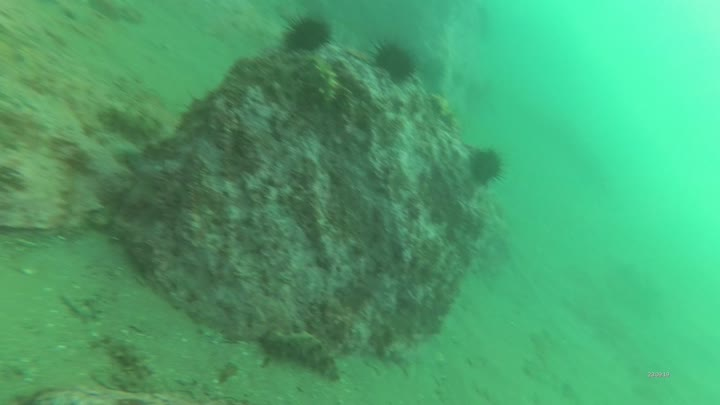echinus: (364, 37, 422, 86), (281, 14, 337, 55), (471, 144, 508, 187)
